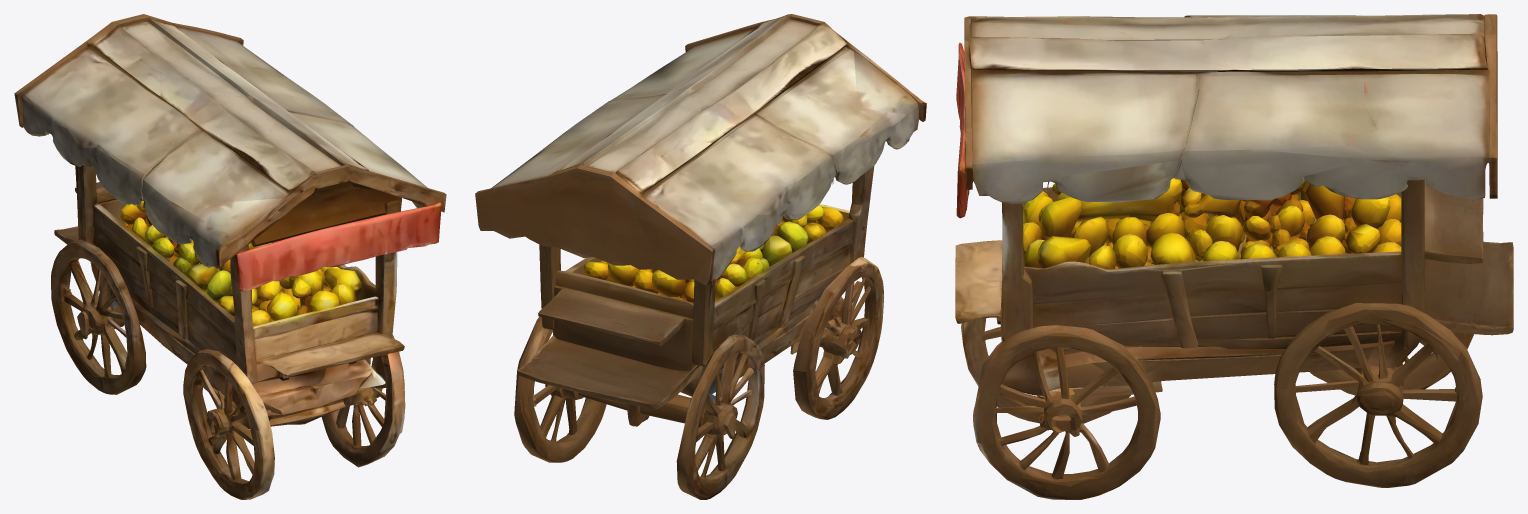
3 views of the same model, side by side, from view 1: azimuth 30°, elevation 25°; view 2: azimuth 150°, elevation 25°; view 3: azimuth 270°, elevation 25° (orthographic). The views are drawn at different scales.
Visible parts, largest first — view 1: model; view 2: model; view 3: model.
Boxes of the visible parts, x1,y1,x2,y2 form: model: (14, 14, 446, 499); model: (475, 14, 926, 499); model: (955, 14, 1513, 499).
Size of the model in its own units: 1.16 by 1.64 by 1.9.
1 material, 1 textured.
